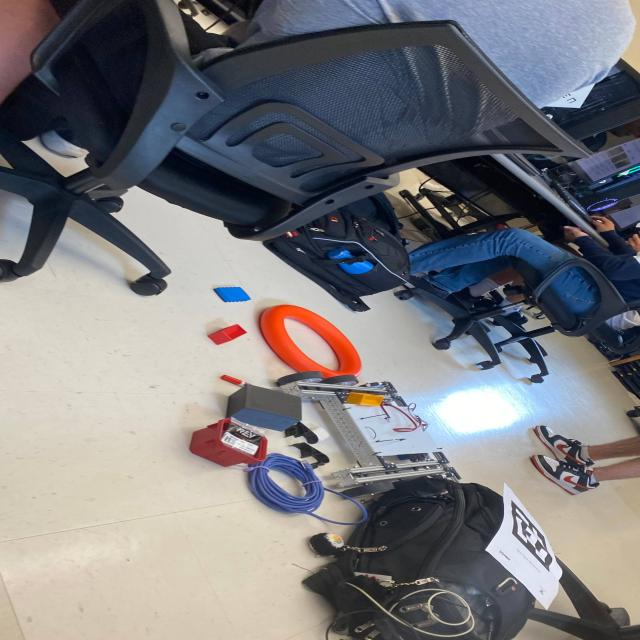red-specimen: (208, 324, 246, 345)
yellow-specimen: (345, 392, 383, 406)
